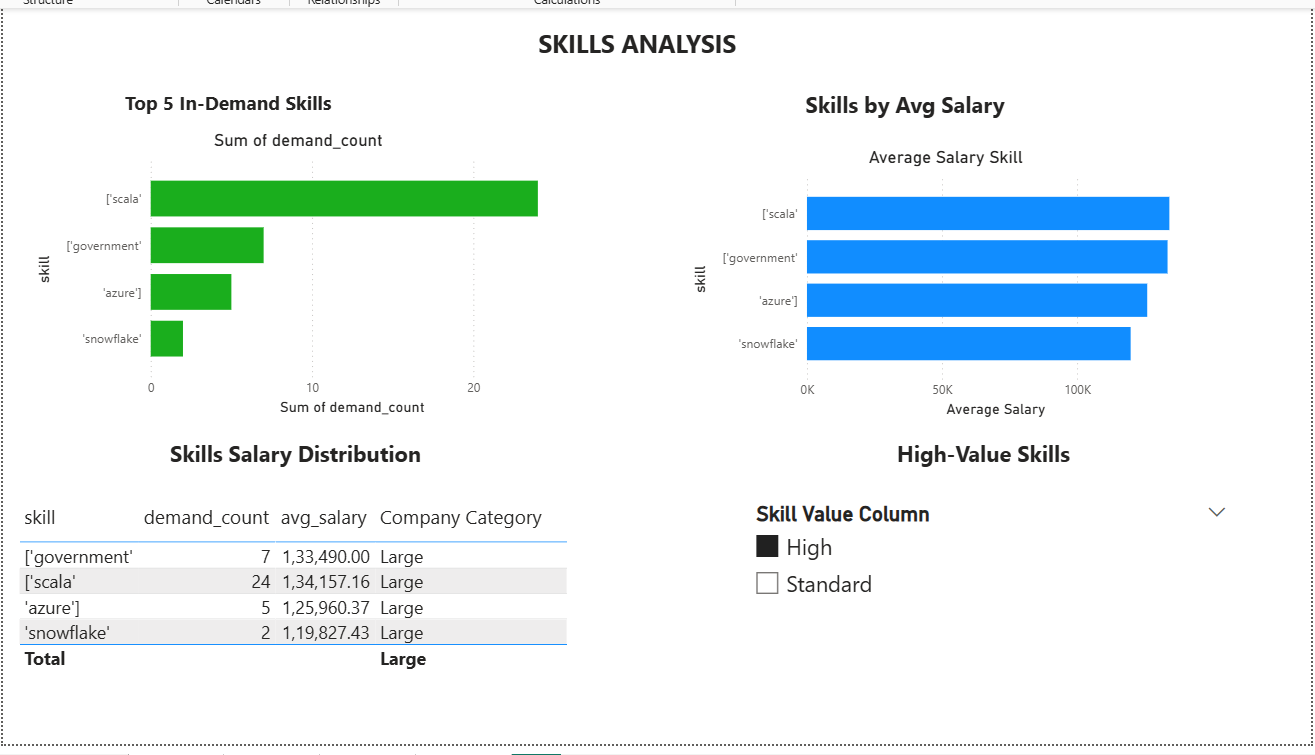

This screenshot's page, from the dashboard's own definition file:
{"tool":"powerbi","page":{"name":"Page 3","canvas":[1280,720],"ordinal":2},"visuals":[{"type":"clusteredBarChart","title":"Sum of demand_count","fields":{"Category":["job_analysis_db view_skills_analysis.skill"],"Y":["Sum(job_analysis_db view_skills_analysis.demand_count)"]},"box":[27,118.9,524.3,285.1],"z":0},{"type":"textbox","box":[417.6,13.5,406.8,60.8],"z":1000},{"type":"textbox","box":[51.4,74.3,337.8,60.8],"z":2000},{"type":"barChart","title":"Average Salary Skill","fields":{"Y":["Sum(job_analysis_db view_skills_analysis.avg_salary)"],"Category":["job_analysis_db view_skills_analysis.skill"]},"box":[668.9,135.1,506.8,270.3],"z":3000},{"type":"textbox","box":[668.9,74.3,427,60.8],"z":4000},{"type":"textbox","box":[27,416.2,524.3,62.2],"z":5000},{"type":"tableEx","fields":{"Values":["job_analysis_db view_skills_analysis.skill","job_analysis_db view_skills_analysis.demand_count","job_analysis_db view_skills_analysis.avg_salary","job_analysis_db view_company_analysis.Company Category"]},"box":[9.5,478.4,671.6,225.7],"z":6000},{"type":"slicer","fields":{"Values":["job_analysis_db view_skills_analysis.Skill Value Column"]},"box":[724.3,478.4,485.1,139.2],"z":7000},{"type":"textbox","box":[741.9,416.2,433.8,87.8],"z":8000}]}

Visuals, with their boxes on the page's 1280x720 design canvas (x1, y1, x2, y2). These are canvas units, not pixel positions in the 1315x755 screenshot, which may show the page scaled, cropped or inside an application window:
"Sum of demand_count" clusteredBarChart: <region>27, 119, 551, 404</region>
textbox: <region>418, 14, 824, 74</region>
textbox: <region>51, 74, 389, 135</region>
"Average Salary Skill" barChart: <region>669, 135, 1176, 405</region>
textbox: <region>669, 74, 1096, 135</region>
textbox: <region>27, 416, 551, 478</region>
tableEx - job_analysis_db view_skills_analysis.skill x job_analysis_db view_skills_analysis.demand_count: <region>10, 478, 681, 704</region>
slicer - job_analysis_db view_skills_analysis.Skill Value Column: <region>724, 478, 1209, 618</region>
textbox: <region>742, 416, 1176, 504</region>
